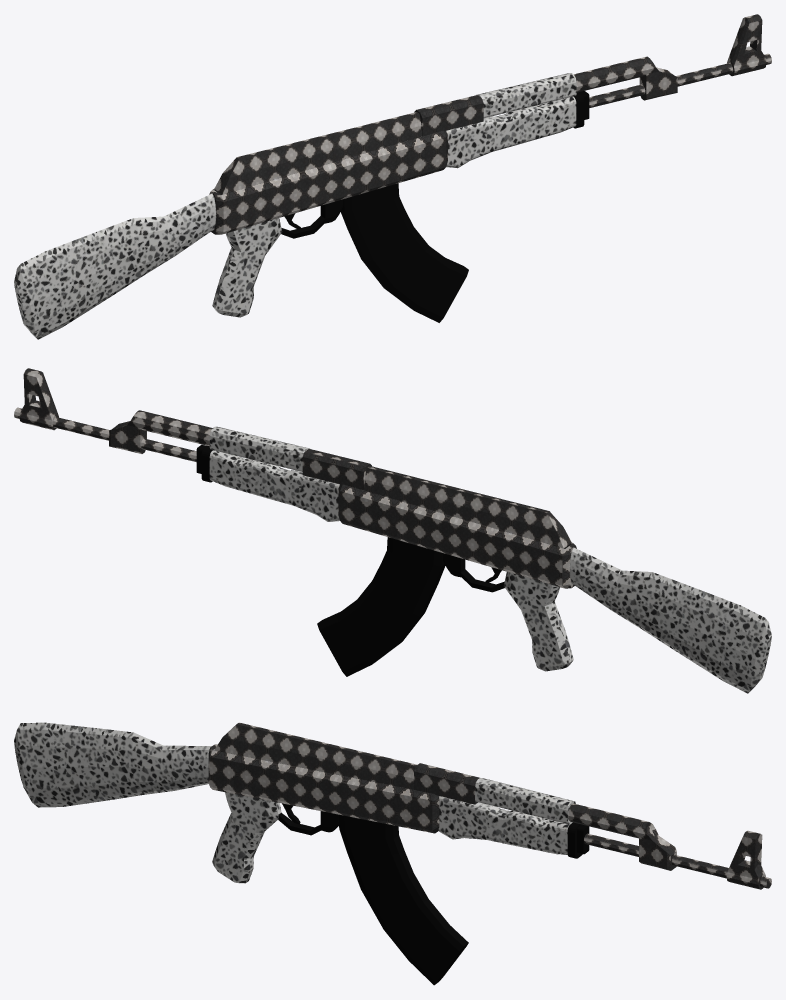
3 renders of one model, top to bottom at view 1: azimuth 30°, elevation 25°; view 2: azimuth 150°, elevation 25°; view 3: azimuth 330°, elevation 25°, orthographic.
Visible parts, largest first — view 1: AK Bake; view 2: AK Bake; view 3: AK Bake.
Boxes of the visible parts, x1,y1,x2,y2 form: AK Bake: (14, 14, 771, 339); AK Bake: (14, 368, 771, 693); AK Bake: (14, 722, 771, 985).
Bounding box in the file's own units: 10637 × 3068 × 331.
Materials: 2 (1 with a texture image).
